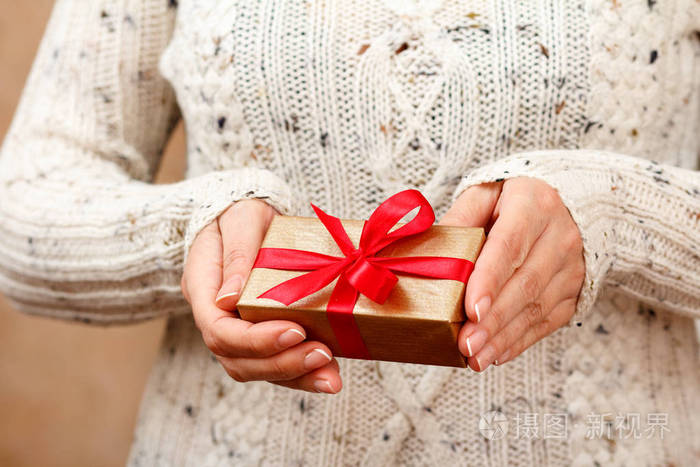no-phone: (180, 172, 584, 398)
